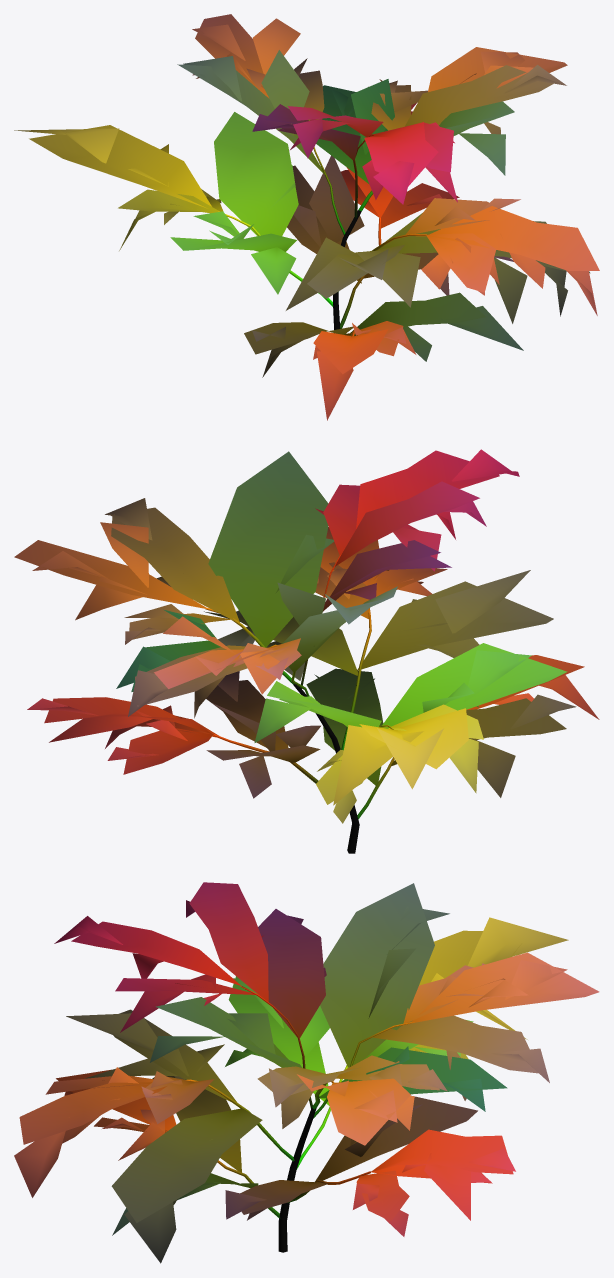
Rendered from SM_EuropeanBeech_XS_01.fbx.
3 views of the same model, one above another, from view 1: azimuth 30°, elevation 25°; view 2: azimuth 150°, elevation 25°; view 3: azimuth 270°, elevation 25° (orthographic). The views are drawn at different scales.
Visible parts, largest first — view 1: SM_EuropeanBeech_XS_01_LOD0; view 2: SM_EuropeanBeech_XS_01_LOD0; view 3: SM_EuropeanBeech_XS_01_LOD0.
Part boxes in pixels (x1=…): SM_EuropeanBeech_XS_01_LOD0: x1=14, y1=14, x2=599, y2=420; SM_EuropeanBeech_XS_01_LOD0: x1=14, y1=449, x2=599, y2=853; SM_EuropeanBeech_XS_01_LOD0: x1=14, y1=882, x2=599, y2=1263.
Size of the model in its own units: 184 by 193 by 120.
